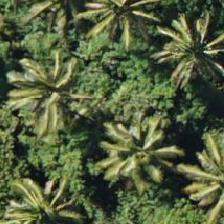coconut_tree: (79, 101, 169, 191), (0, 57, 87, 147), (128, 0, 218, 81), (0, 166, 87, 223)
